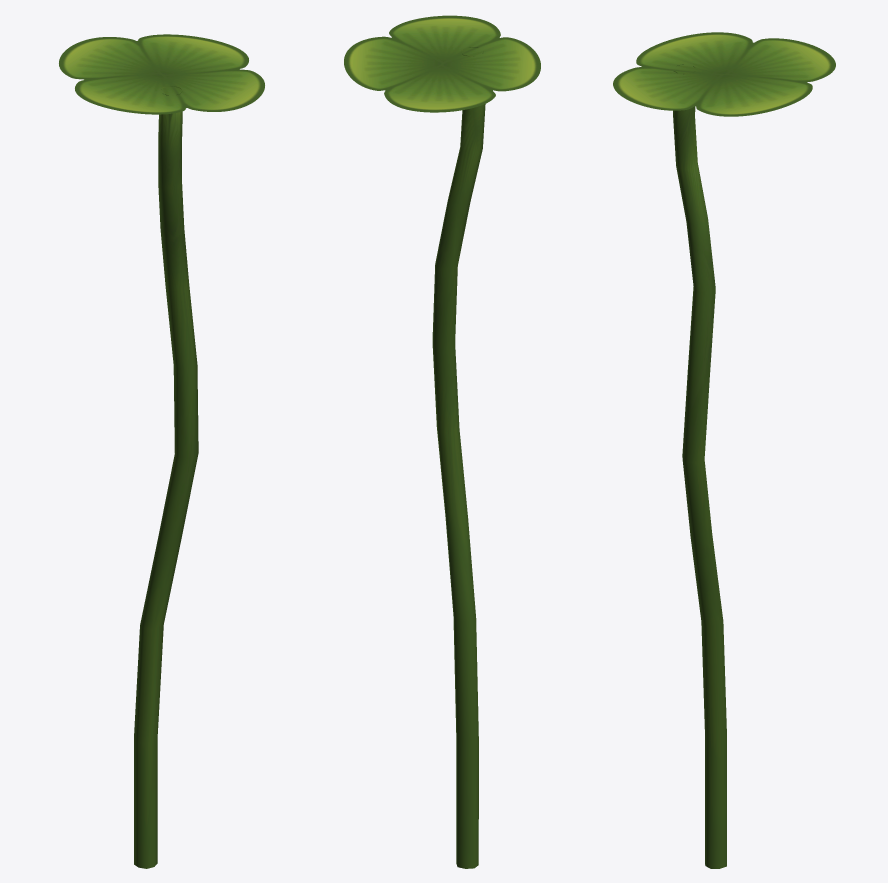
Rendered from LillypadBob.fbx.
3 renders of one model, left to right at view 1: azimuth 30°, elevation 25°; view 2: azimuth 150°, elevation 25°; view 3: azimuth 270°, elevation 25°, orthographic. The views are drawn at different scales.
Parts seen in each view (by area): view 1: LillypadBase, RoofTile; view 2: LillypadBase, RoofTile; view 3: LillypadBase, RoofTile.
Part boxes in pixels (bbox=[...]): LillypadBase: bbox=[134, 86, 198, 868]; RoofTile: bbox=[59, 34, 264, 114]; LillypadBase: bbox=[432, 47, 485, 868]; RoofTile: bbox=[344, 15, 540, 112]; LillypadBase: bbox=[673, 64, 726, 868]; RoofTile: bbox=[613, 32, 835, 116].
Size of the model in its own units: 0.7236 by 2.23 by 0.7545.
